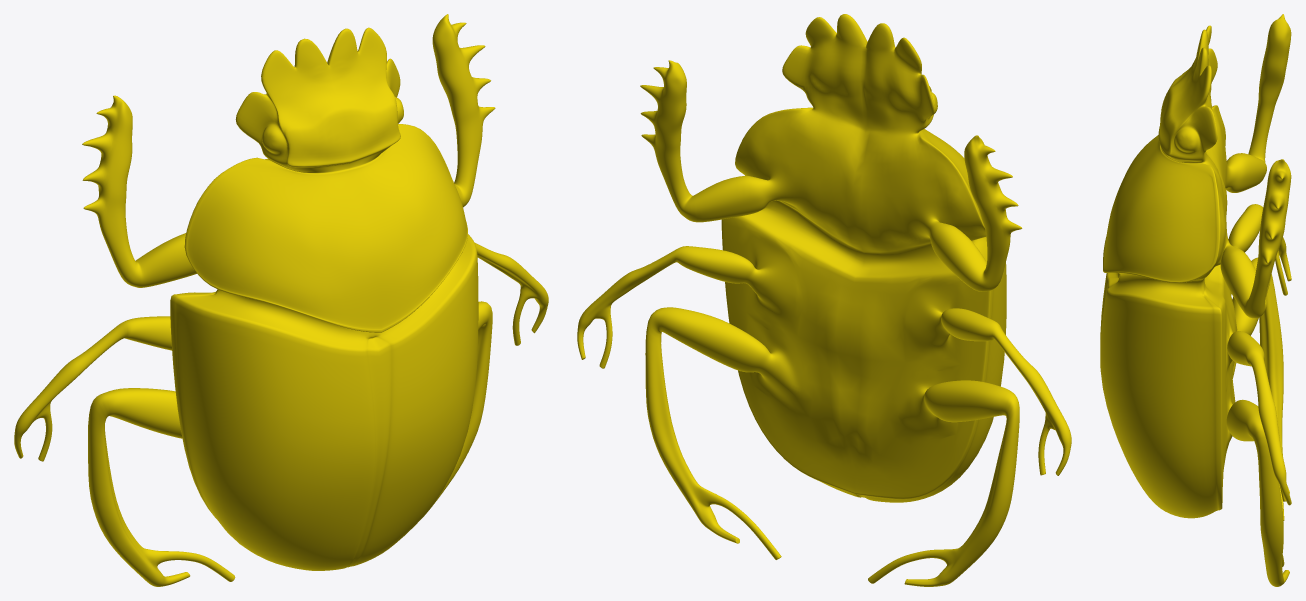
The model's file is KHEPRI.fbx.
3 renders of one model, left to right at view 1: azimuth 30°, elevation 25°; view 2: azimuth 150°, elevation 25°; view 3: azimuth 270°, elevation 25°, orthographic. The views are drawn at different scales.
Visible parts, largest first — view 1: 15916_Scarab_Beetle_v1; view 2: 15916_Scarab_Beetle_v1; view 3: 15916_Scarab_Beetle_v1.
Part boxes in pixels (box(x1,y1,x2,y2)): 15916_Scarab_Beetle_v1: box(14, 14, 548, 586); 15916_Scarab_Beetle_v1: box(577, 14, 1071, 586); 15916_Scarab_Beetle_v1: box(1100, 14, 1291, 586).
Size of the model in its own units: 1069 by 1088 by 373.
